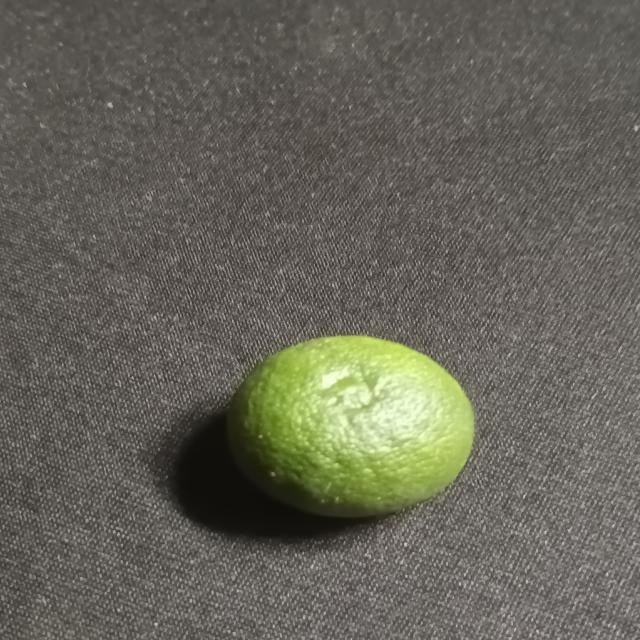heathy: (224, 331, 478, 519)
